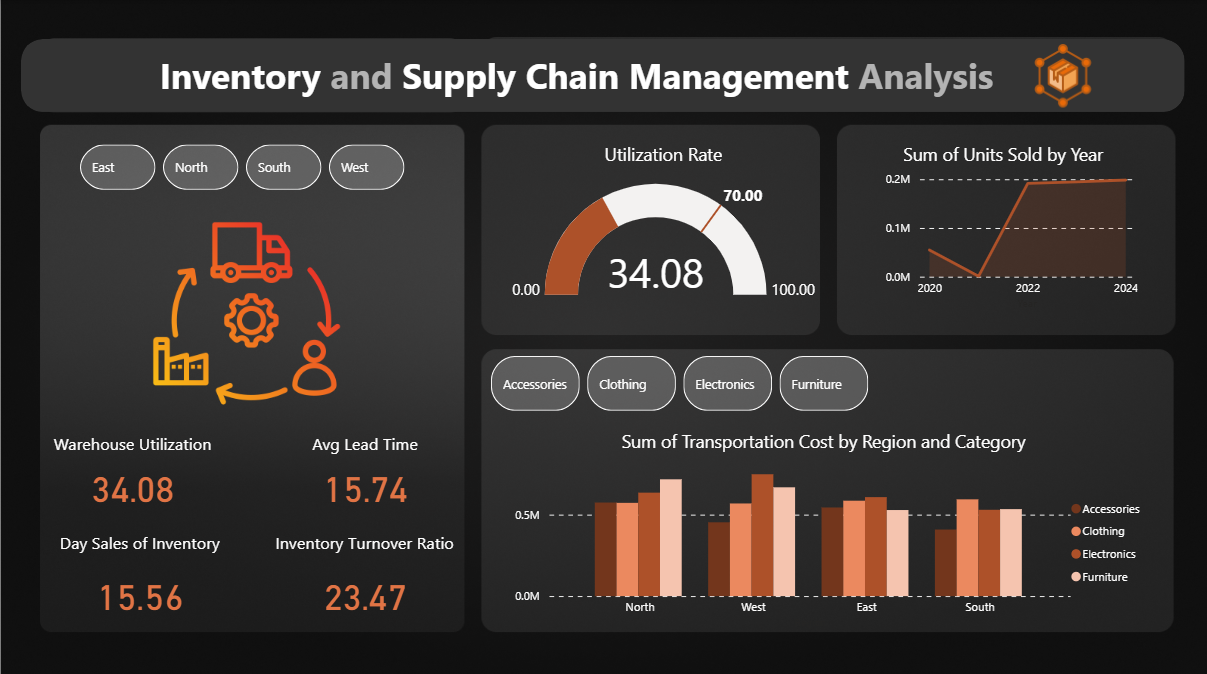

The dashboard page shown, as its layout file describes it:
{"tool":"powerbi","page":{"name":"Page 1","canvas":[1280,720],"ordinal":0},"visuals":[{"type":"shape","box":[22.7,41.6,1234,77.5],"z":0},{"type":"textbox","box":[139.8,49.1,943,75.6],"z":1000},{"type":"card","title":"Warehouse Utilization","fields":{"Values":["Inventory and supply chain Dataset.Warehouse Utilization"]},"box":[51,457.3,179.5,90.7],"z":2000},{"type":"card","title":"Day Sales of Inventory","fields":{"Values":["Inventory and supply chain Dataset.Days Sales of Inventory"]},"box":[51,563.2,194.6,109.6],"z":3000},{"type":"card","title":"Inventory Turnover Ratio","fields":{"Values":["Inventory and supply chain Dataset.Inventory Turnover Ratio"]},"box":[285.4,563.2,204.1,109.6],"z":4000},{"type":"card","title":"Avg Lead Time","fields":{"Values":["Inventory and supply chain Dataset.AverageLeadTime"]},"box":[296.7,457.3,179.5,90.7],"z":5000},{"type":"image","box":[1063.5,41.3,125.4,77.8],"z":6000},{"type":"image","box":[79.4,223.8,363.5,215.9],"z":7000},{"type":"advancedSlicerVisual","fields":{"Values":["Inventory and supply chain Dataset.Region"]},"box":[79.4,147.6,357.1,58.7],"z":8000},{"type":"advancedSlicerVisual","fields":{"Values":["Inventory and supply chain Dataset.Category"]},"box":[515.9,371.4,412.7,68.3],"z":9000},{"type":"gauge","title":"Utilization Rate","fields":{"Y":["Inventory and supply chain Dataset.Warehouse Utilization"]},"box":[533.3,150.8,341.3,181],"z":10000},{"type":"clusteredColumnChart","fields":{"Y":["Sum(Inventory and supply chain Dataset.Transportation Cost)"],"Category":["Inventory and supply chain Dataset.Region"],"Series":["Inventory and supply chain Dataset.Category"]},"box":[523.8,455.6,700,215.9],"z":11000},{"type":"lineChart","fields":{"Y":["Sum(Inventory and supply chain Dataset.Units Sold)"],"Category":["Inventory and supply chain Dataset.Date.Variation.Date Hierarchy.Year"]},"box":[915.9,150.8,295.2,181],"z":12000}]}

Visuals, with their boxes in screenshot pixels (x1, y1, x2, y2), scaled from the page's 1280x720 canvas onto the 1207x674 screenshot:
shape: BBox(21, 39, 1185, 111)
textbox: BBox(132, 46, 1021, 117)
"Warehouse Utilization" card: BBox(48, 428, 217, 513)
"Day Sales of Inventory" card: BBox(48, 527, 232, 630)
"Inventory Turnover Ratio" card: BBox(269, 527, 462, 630)
"Avg Lead Time" card: BBox(280, 428, 449, 513)
image: BBox(1003, 39, 1121, 111)
image: BBox(75, 210, 418, 412)
advancedSlicerVisual - Inventory and supply chain Dataset.Region: BBox(75, 138, 412, 193)
advancedSlicerVisual - Inventory and supply chain Dataset.Category: BBox(486, 348, 876, 412)
"Utilization Rate" gauge: BBox(503, 141, 825, 311)
clusteredColumnChart - Sum(Inventory and supply chain Dataset.Transportation Cost) x Inventory and supply chain Dataset.Region: BBox(494, 426, 1154, 629)
lineChart - Sum(Inventory and supply chain Dataset.Units Sold) x Inventory and supply chain Dataset.Date.Variation.Date Hierarchy.Year: BBox(864, 141, 1142, 311)
